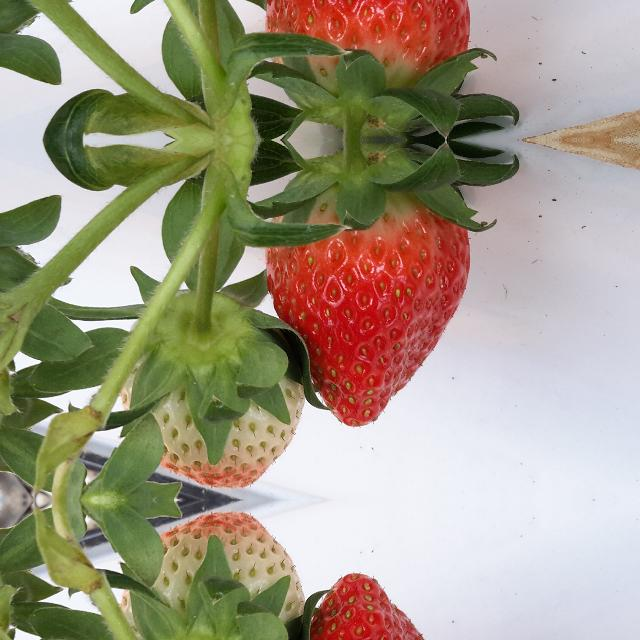Health_100: (263, 188, 473, 428), (263, 0, 473, 92), (263, 572, 473, 640)
Health_50: (119, 299, 307, 487), (119, 513, 307, 640)
